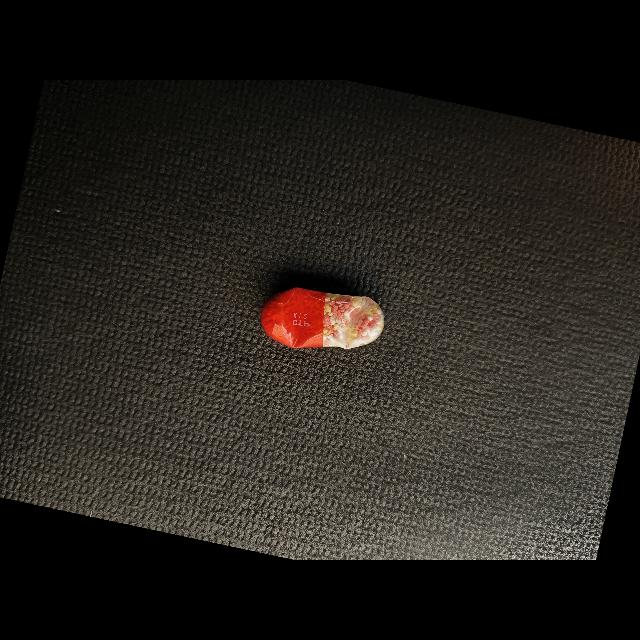Defective Capsule: (261, 287, 385, 349)
